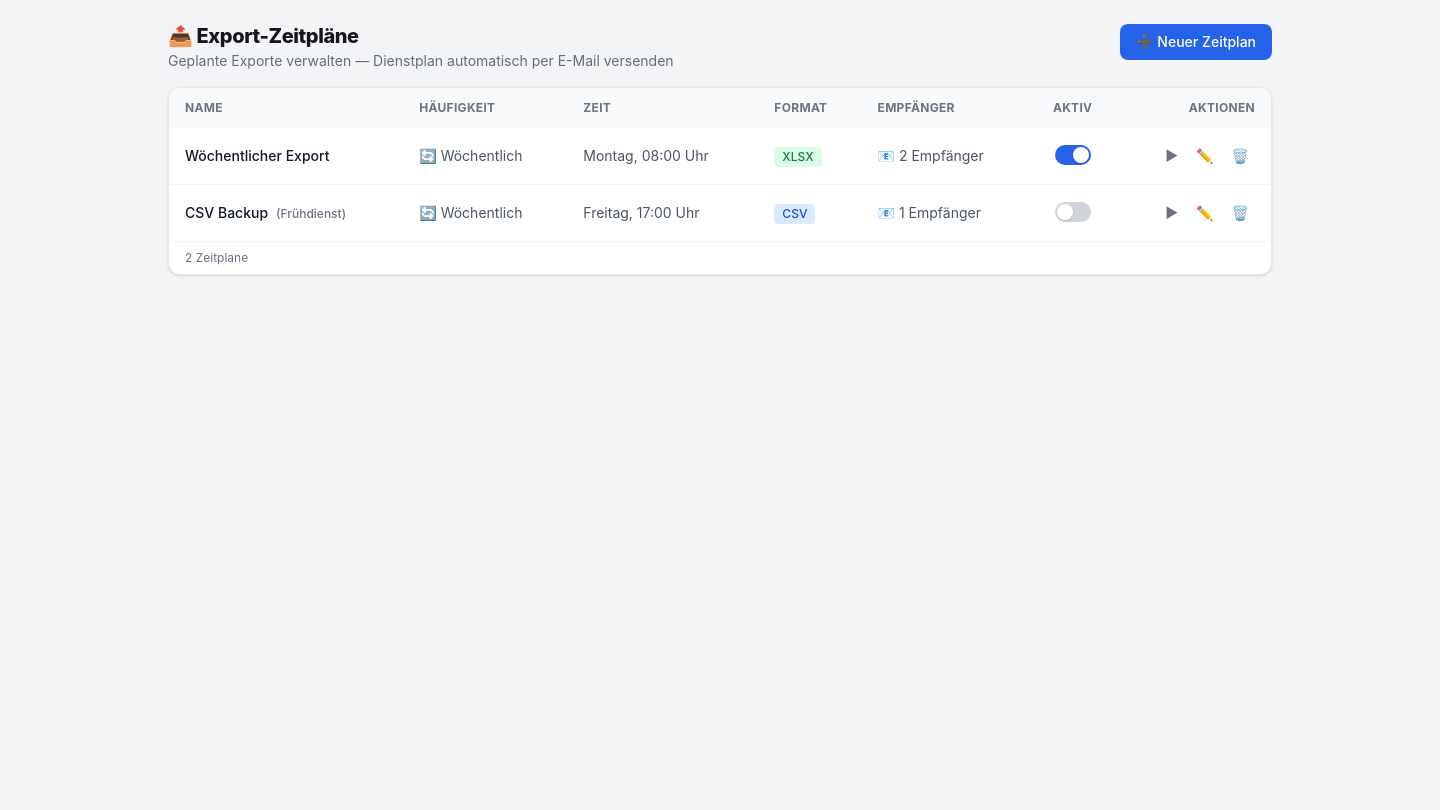
Scenario: ExportScheduler › opens edit modal on edit button click
Expected: the text "Wöchentlicher Export" is shown, [169,128,403,184]
Click the button titled "Bearbeiten" in the row of "Wöchentlicher Export": point(1205, 156) [1190,140,1220,172]
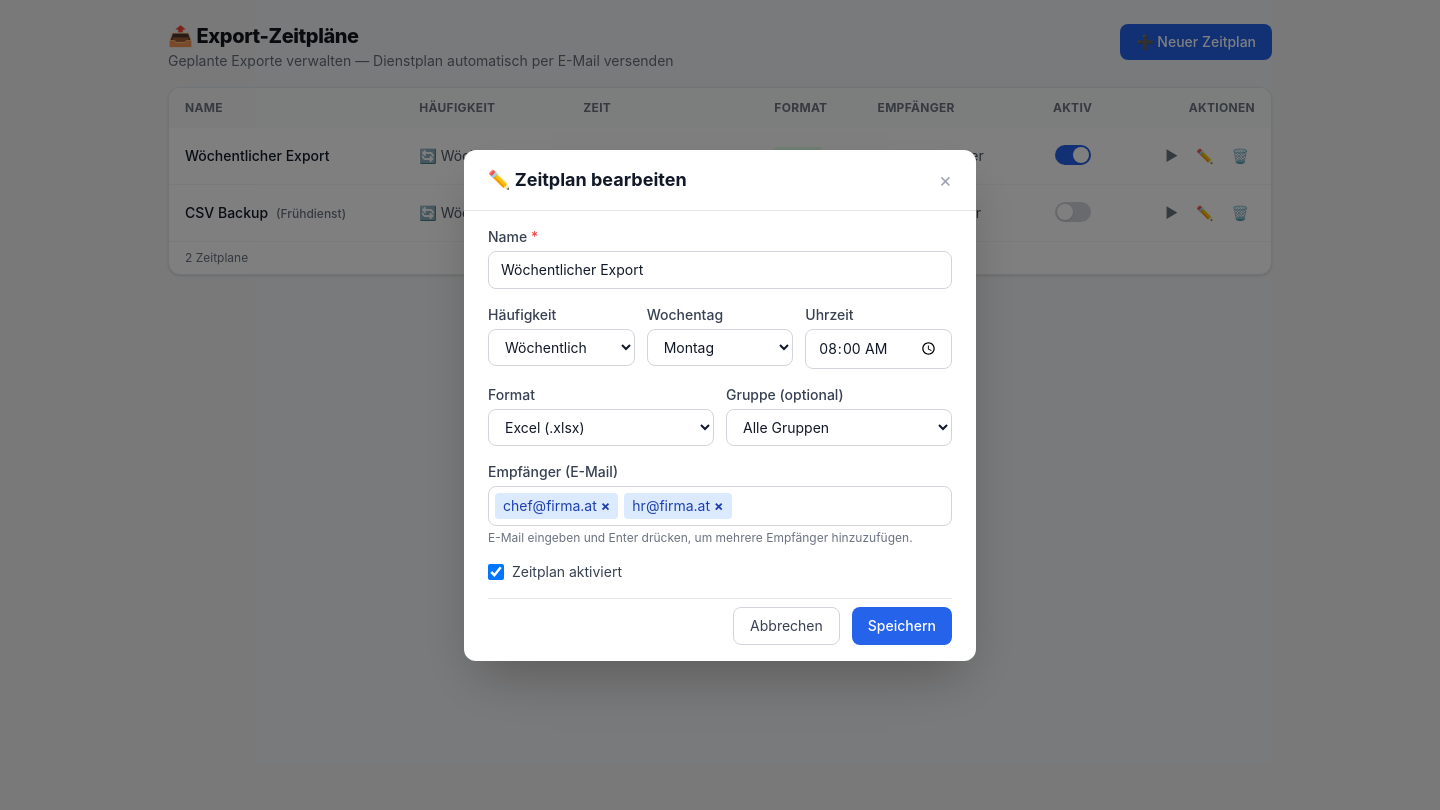
Now the dialog is shown
Now the heading "✏️ Zeitplan bearbeiten" is shown, box [488,166,687,194]
